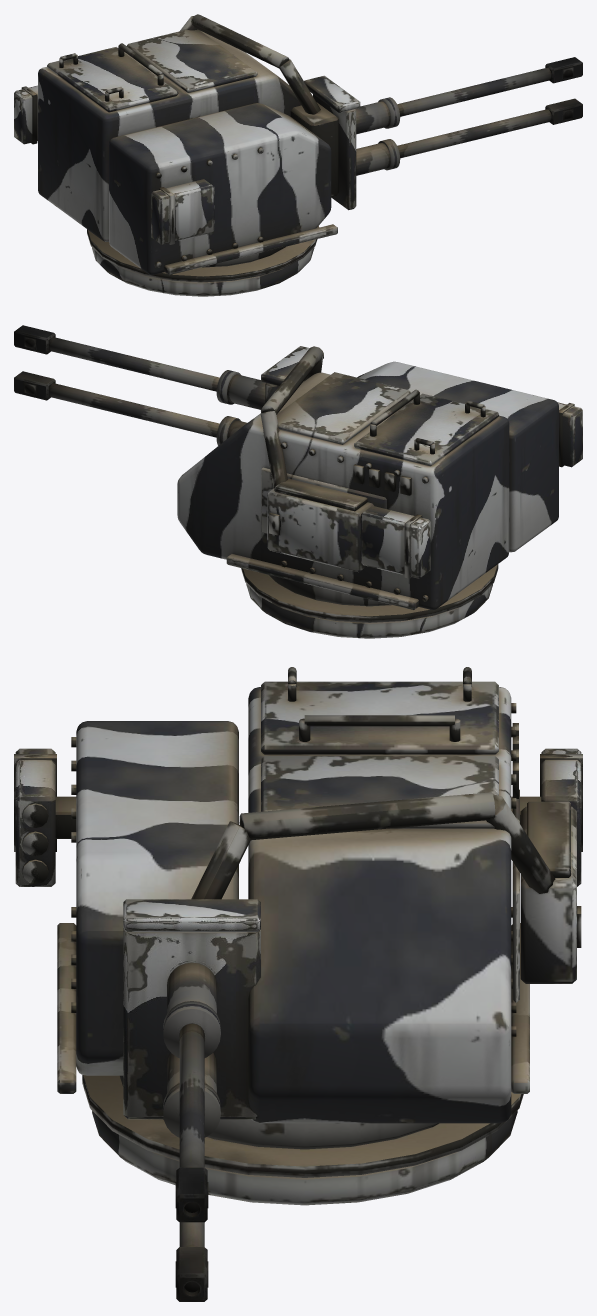
Rendered from turret_grach_t2_arctic_tiger.glb.
3 views of the same model, one above another, from view 1: azimuth 30°, elevation 25°; view 2: azimuth 150°, elevation 25°; view 3: azimuth 270°, elevation 25° (orthographic). The views are drawn at different scales.
Parts seen in each view (by area): view 1: turret_light_t2, guns, pods; view 2: turret_light_t2, guns, pods; view 3: turret_light_t2, guns, pods.
Boxes of the visible parts, box(x1,y1,x2,y2) form: turret_light_t2: box(38, 14, 337, 296); guns: box(290, 57, 582, 210); pods: box(14, 85, 214, 244); turret_light_t2: box(177, 346, 558, 638); guns: box(14, 325, 323, 445); pods: box(360, 402, 582, 578); turret_light_t2: box(57, 667, 581, 1205); guns: box(123, 899, 260, 1301); pods: box(14, 748, 582, 886).
Size of the model in its own units: 1.64 by 0.6416 by 0.9088.
Materials: 3 (3 with a texture image).
